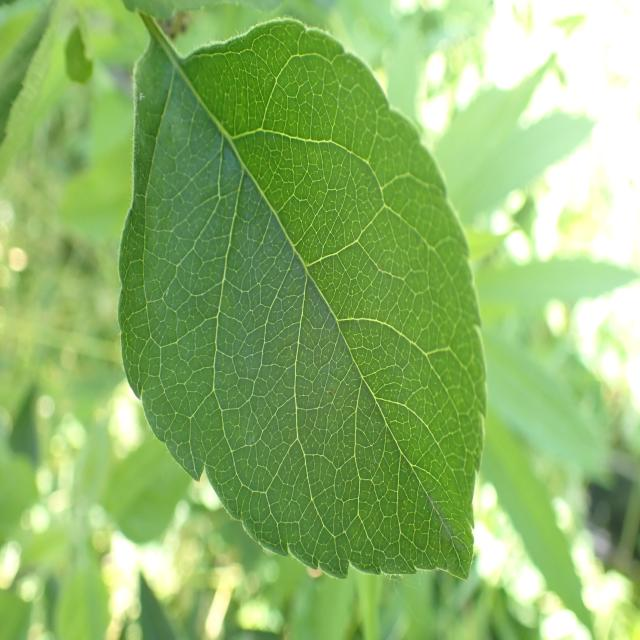healthy: (118, 17, 487, 579)
